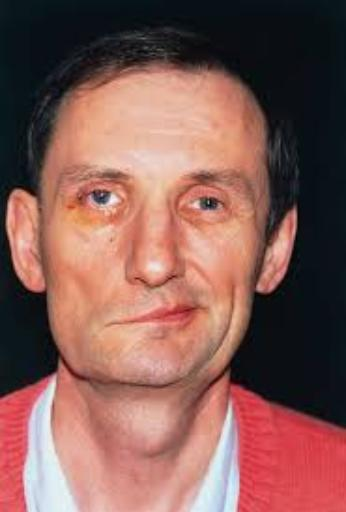left_eye: (183, 196, 230, 219)
left_lip_corner: (190, 300, 210, 319)
right_eye: (75, 188, 129, 216)
right_lip_corner: (102, 318, 117, 334)
